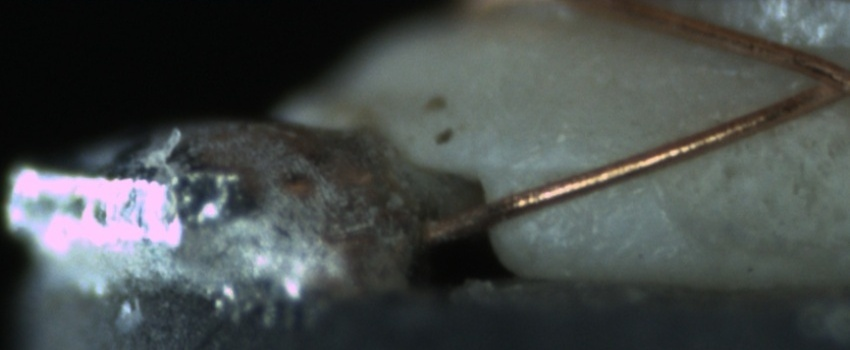CL: (794, 48, 850, 107)
DL: (499, 143, 634, 192)
